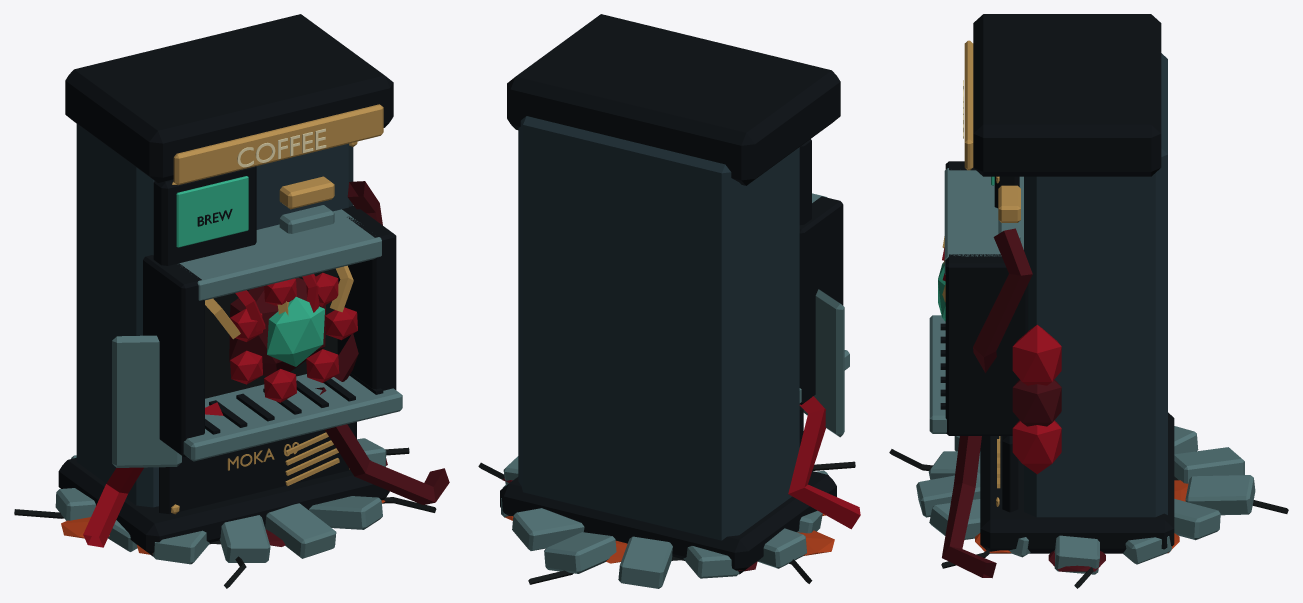
Rendered from CoffeeSpawner_Kit.fbx.
3 renders of one model, left to right at view 1: azimuth 30°, elevation 25°; view 2: azimuth 150°, elevation 25°; view 3: azimuth 270°, elevation 25°, orthographic.
Visible parts, largest first — view 1: CoffeeSpawner, GroundCracks; view 2: CoffeeSpawner, GroundCracks; view 3: CoffeeSpawner, GroundCracks.
Boxes of the visible parts, box(x1,y1,x2,y2) form: CoffeeSpawner: box(58, 14, 449, 556); GroundCracks: box(14, 438, 436, 588); CoffeeSpawner: box(500, 14, 860, 574); GroundCracks: box(478, 456, 855, 588); CoffeeSpawner: box(929, 14, 1188, 578); GroundCracks: box(889, 426, 1288, 588).
Size of the model in its own units: 333 by 383 by 319.
Materials: 1 (1 with a texture image).
